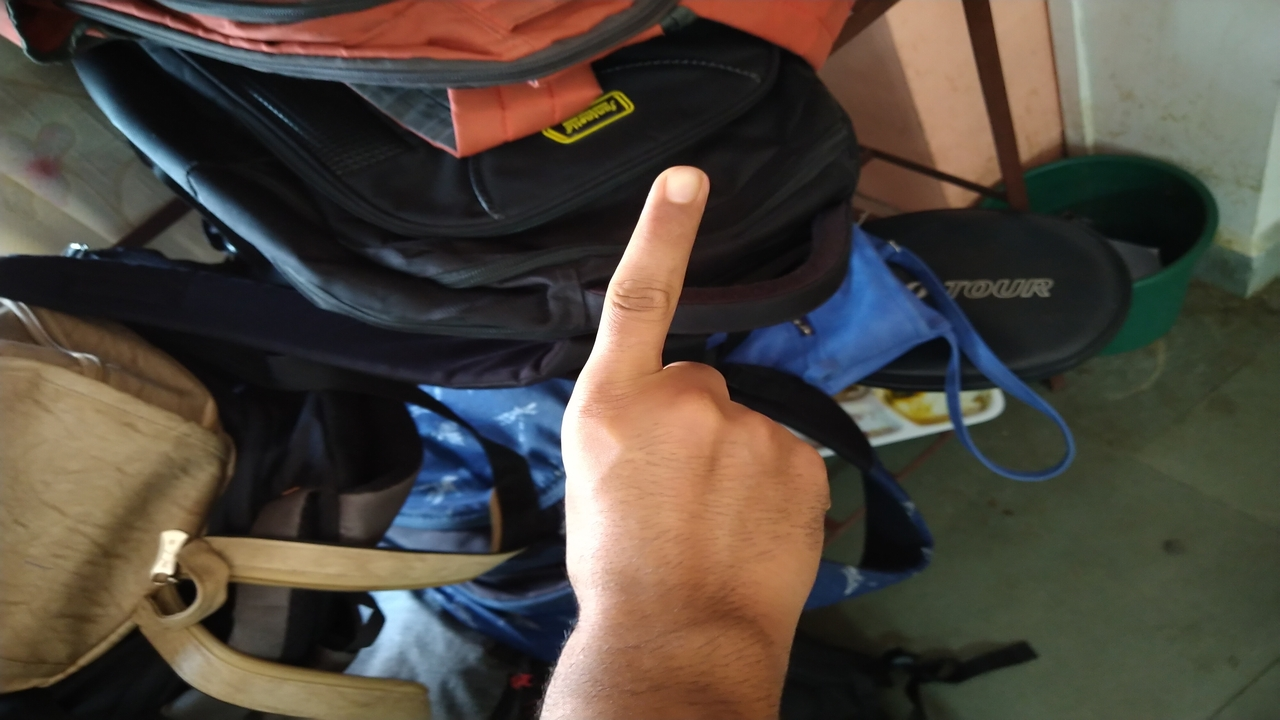fingertip: (642, 158, 710, 228)
